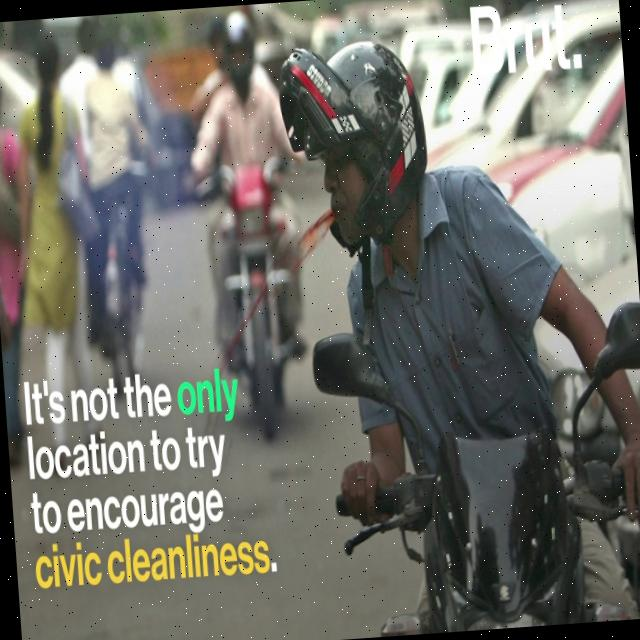spit: (203, 165, 371, 400)
